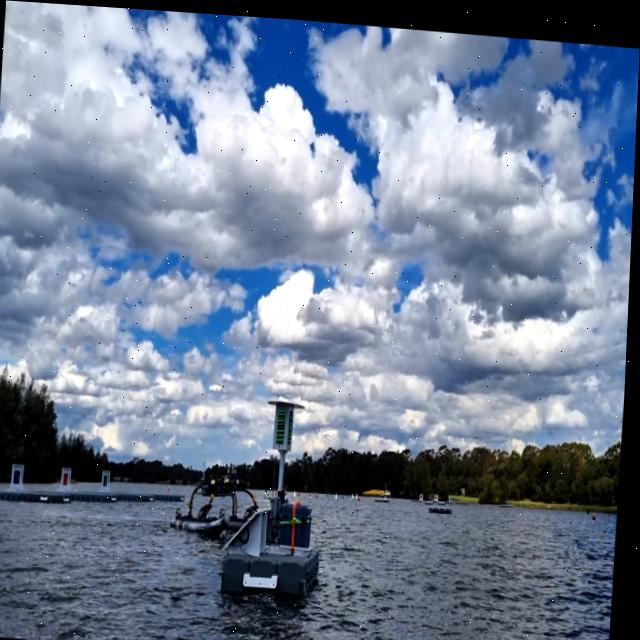led: (278, 402, 291, 443)
